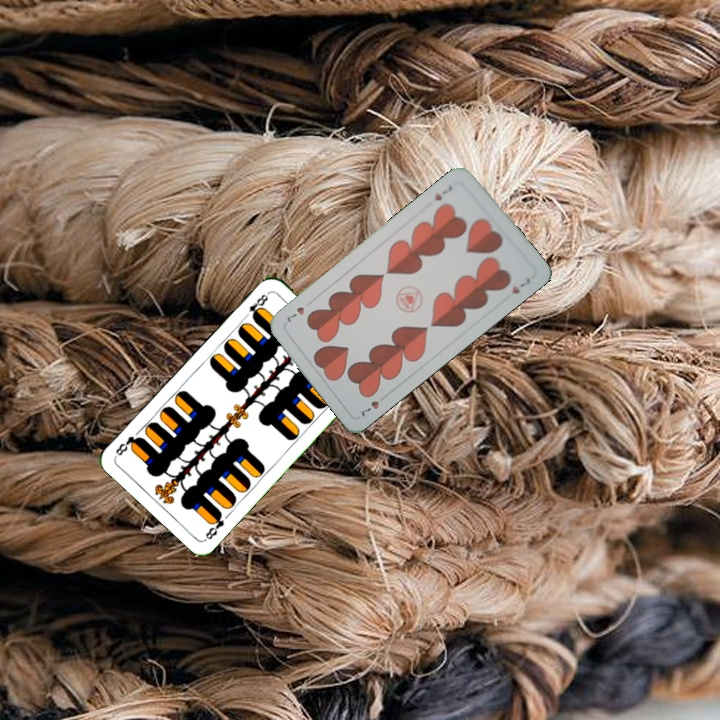E8: (240, 289, 272, 322), (201, 508, 227, 542)
H7: (356, 390, 390, 420), (431, 181, 455, 203)
